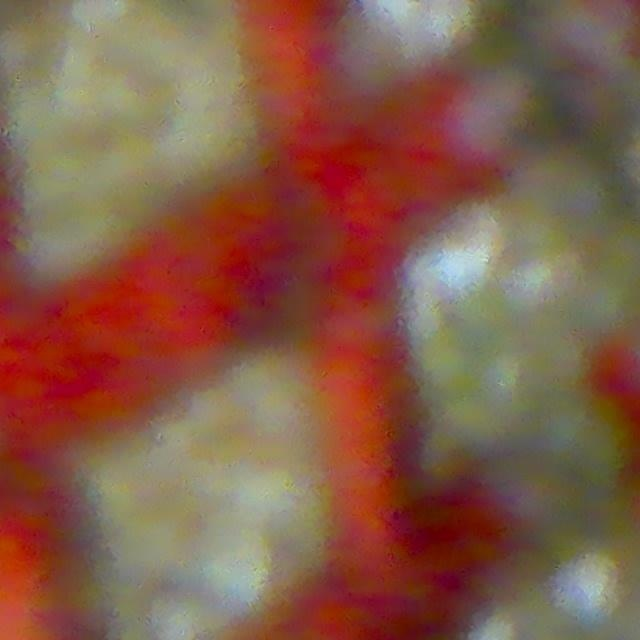SeaGrape: (550, 546, 627, 631)
